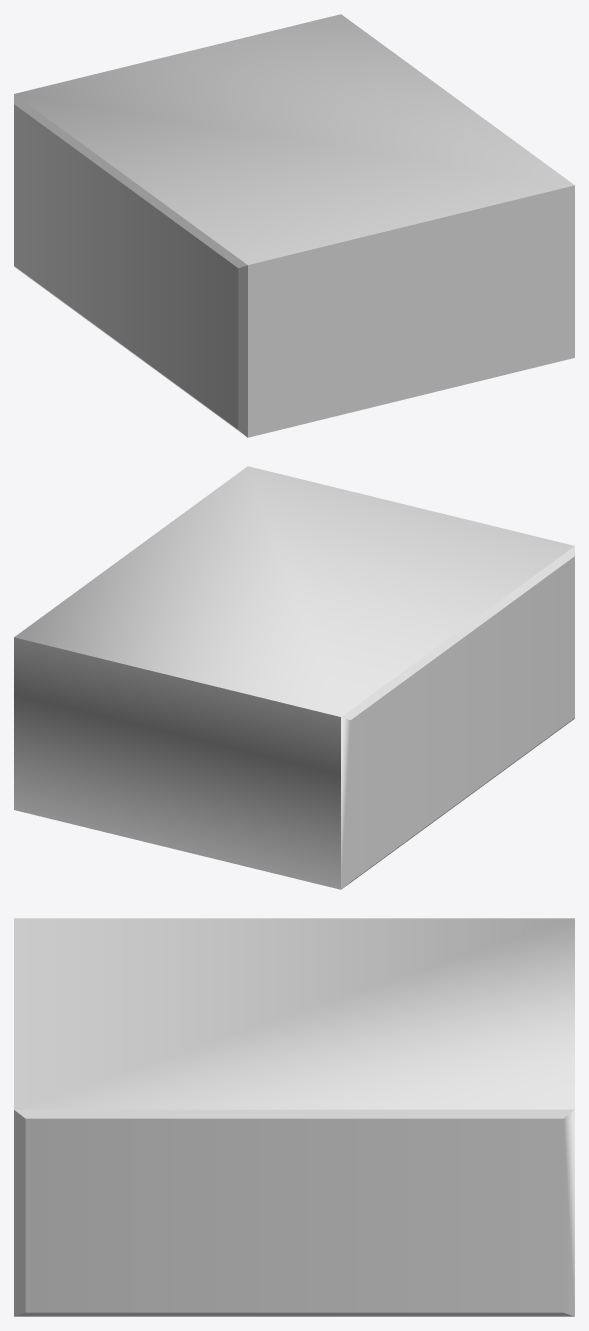
Rendered from Itr_Sofa_Inside_06.FBX.
3 renders of one model, top to bottom at view 1: azimuth 30°, elevation 25°; view 2: azimuth 150°, elevation 25°; view 3: azimuth 270°, elevation 25°, orthographic. The views are drawn at different scales.
Parts seen in each view (by area): view 1: Itr_Sofa_Inside_06; view 2: Itr_Sofa_Inside_06; view 3: Itr_Sofa_Inside_06.
Part boxes in pixels (box(x1,y1,x2,y2)): Itr_Sofa_Inside_06: box(14, 14, 574, 437); Itr_Sofa_Inside_06: box(14, 466, 574, 889); Itr_Sofa_Inside_06: box(14, 918, 574, 1316).
Size of the model in its own units: 25.04 by 12.29 by 30.18.
